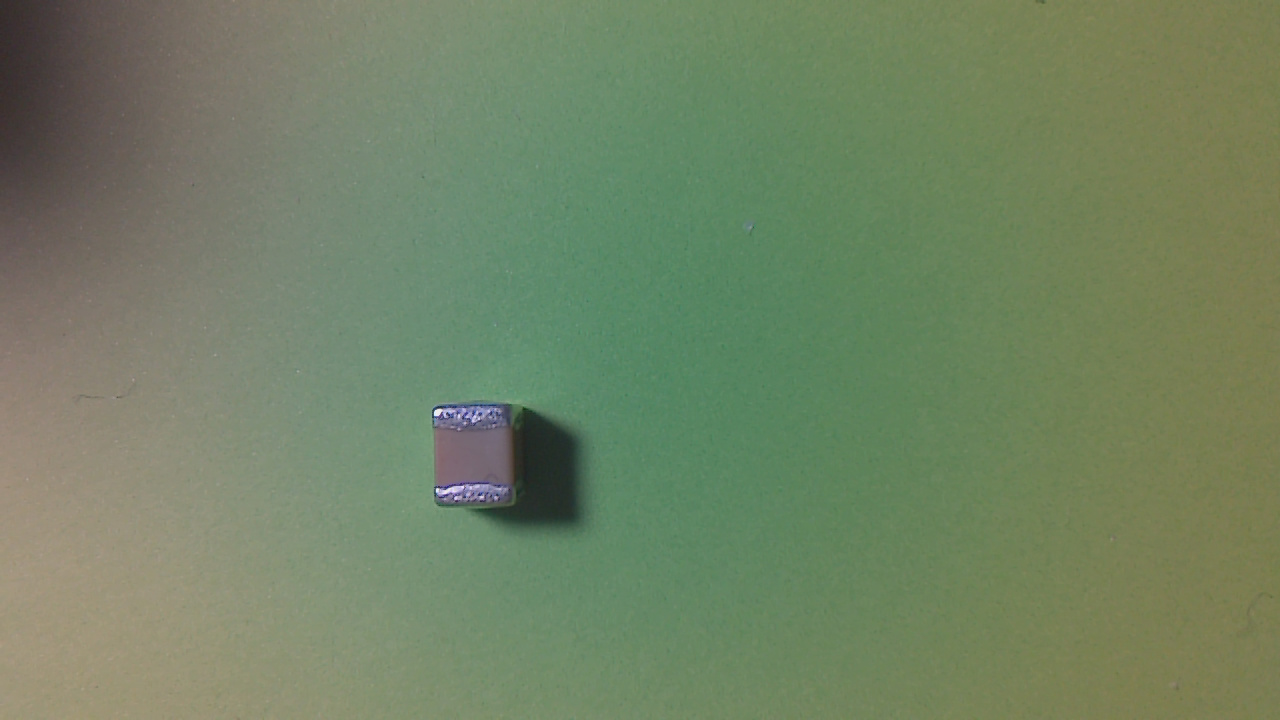Condensator: (434, 407, 524, 515)
